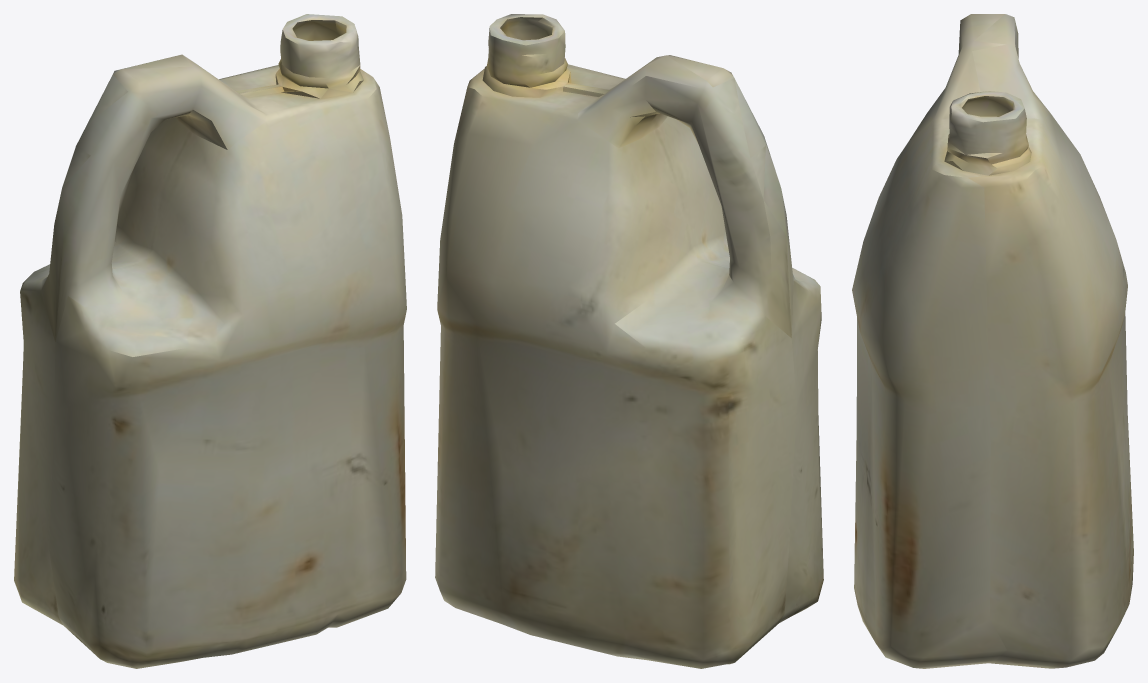
The model's file is plastic_bottle_gallon.glb.
3 renders of one model, left to right at view 1: azimuth 30°, elevation 25°; view 2: azimuth 150°, elevation 25°; view 3: azimuth 270°, elevation 25°, orthographic.
Parts seen in each view (by area): view 1: plastic_bottle_gallon; view 2: plastic_bottle_gallon; view 3: plastic_bottle_gallon.
Part boxes in pixels (x1=…): plastic_bottle_gallon: x1=14, y1=14, x2=406, y2=668; plastic_bottle_gallon: x1=435, y1=14, x2=823, y2=668; plastic_bottle_gallon: x1=852, y1=14, x2=1133, y2=668.
Bounding box in the file's own units: 0.1668 × 0.2743 × 0.1269.
Materials: 1 (1 with a texture image).
